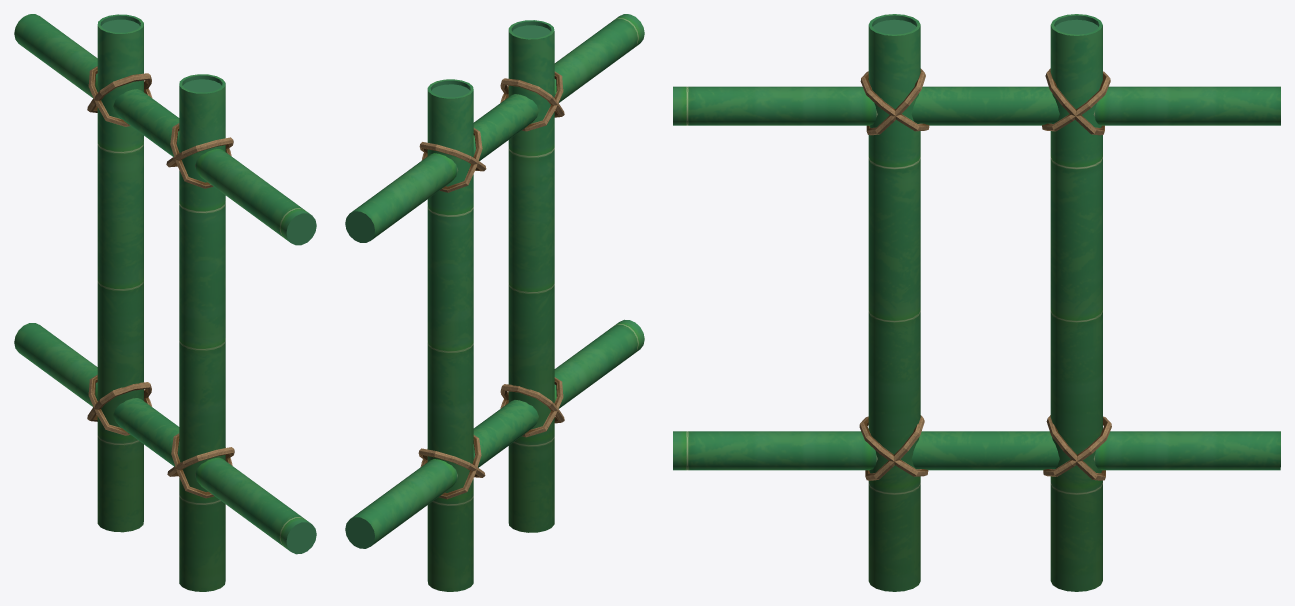
Rendered from cerca de bambu.fbx.
The picture shows the model from 3 angles, left to right: view 1: azimuth 30°, elevation 25°; view 2: azimuth 150°, elevation 25°; view 3: azimuth 270°, elevation 25°; orthographic projection. The views are drawn at different scales.
Visible parts, largest first — view 1: Cylinder.005; view 2: Cylinder.005; view 3: Cylinder.005.
Boxes of the visible parts, x1,y1,x2,y2 form: Cylinder.005: (14, 14, 316, 591); Cylinder.005: (345, 14, 644, 591); Cylinder.005: (673, 14, 1280, 591).
Bounding box in the file's own units: 8.22 × 71.93 × 71.27.
